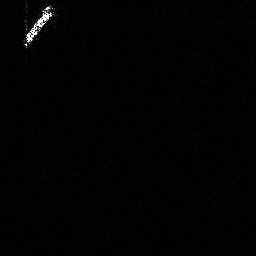ship: (18, 2, 57, 51)
